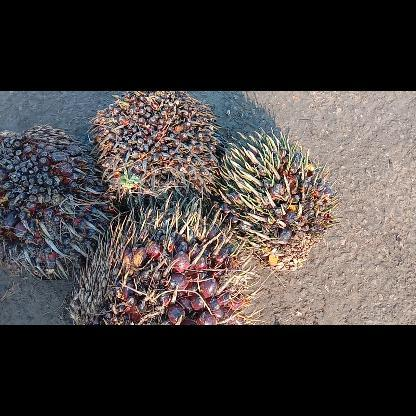TBS abnormal: (0, 121, 124, 280), (210, 126, 343, 274), (84, 92, 228, 214)
TBS masak: (68, 191, 272, 324)
